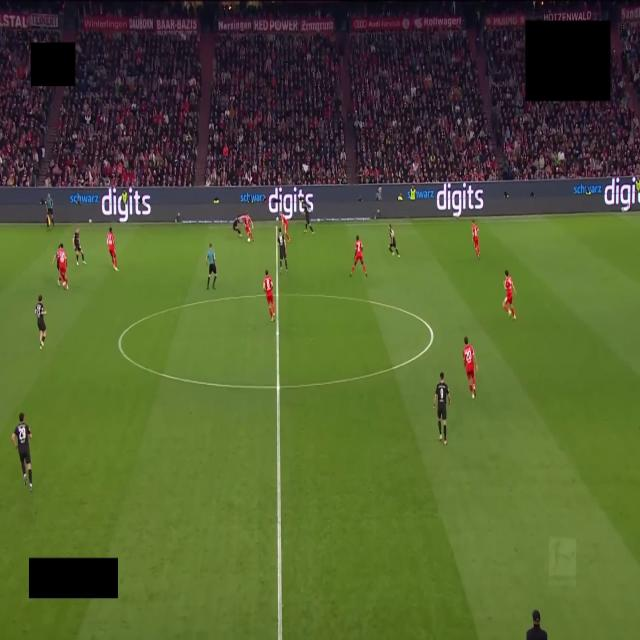ball: (247, 238, 250, 242)
player: (12, 413, 32, 491), (434, 372, 450, 444), (463, 337, 477, 399), (350, 236, 367, 277), (34, 294, 46, 350), (54, 243, 68, 289), (263, 270, 275, 321), (503, 271, 515, 319), (300, 198, 314, 234), (73, 228, 85, 265), (107, 228, 117, 271), (277, 229, 287, 272), (240, 214, 253, 241), (389, 224, 399, 256), (472, 220, 480, 260), (54, 245, 61, 286), (281, 214, 290, 242), (233, 216, 241, 237)
referee: (206, 244, 216, 289)
